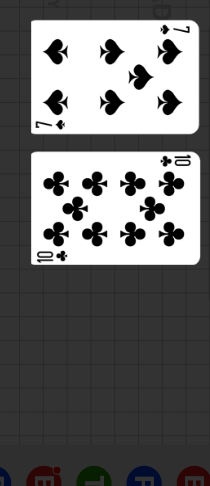10C: (35, 248, 70, 263)
7S: (158, 23, 192, 36)
